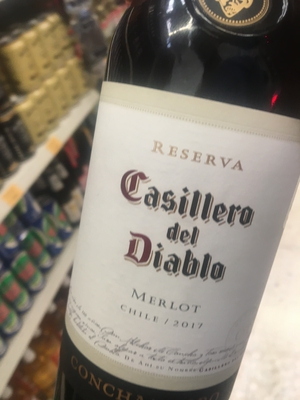casillero del diablo merlot: (63, 21, 300, 391)
